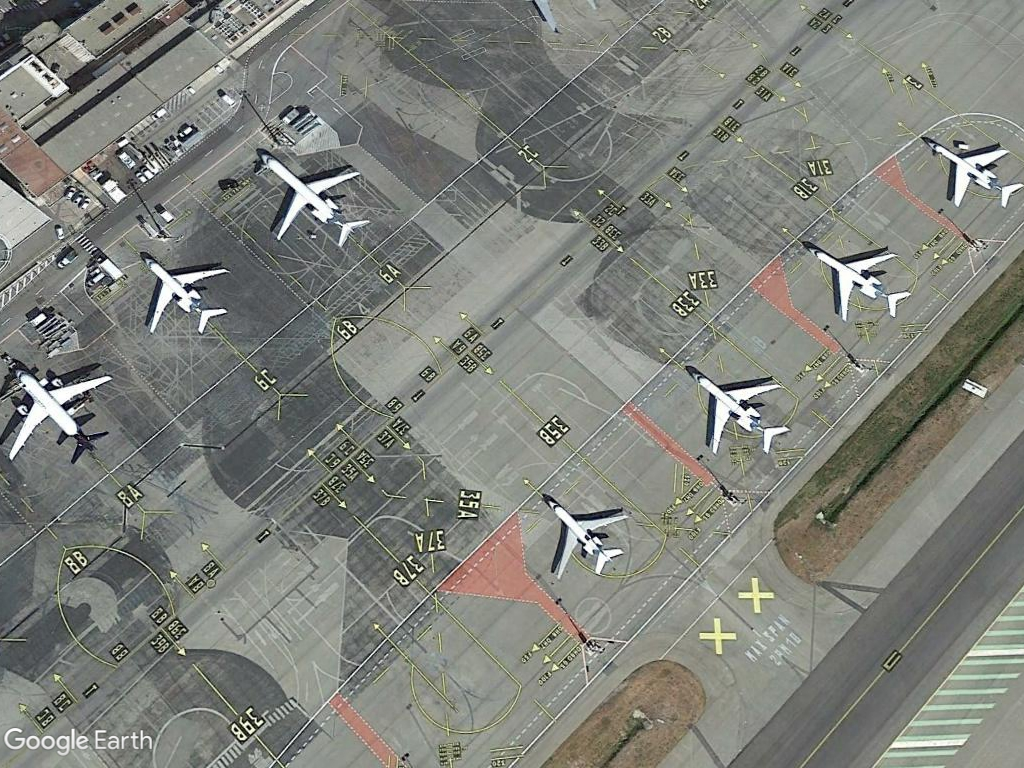airliner: (3, 359, 116, 464)
chartered: (256, 145, 374, 251), (687, 365, 791, 459), (802, 238, 913, 323), (137, 247, 232, 337), (920, 133, 1024, 212), (541, 492, 629, 580)
